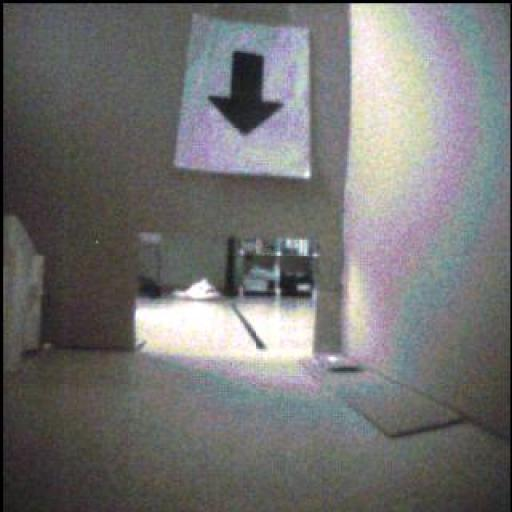arrow: (209, 53, 284, 136)
